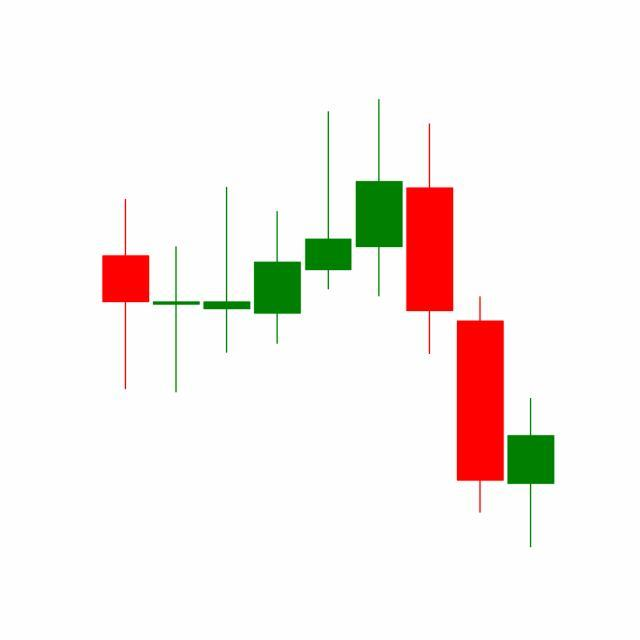Hikkake Pattern: (252, 99, 506, 518)
